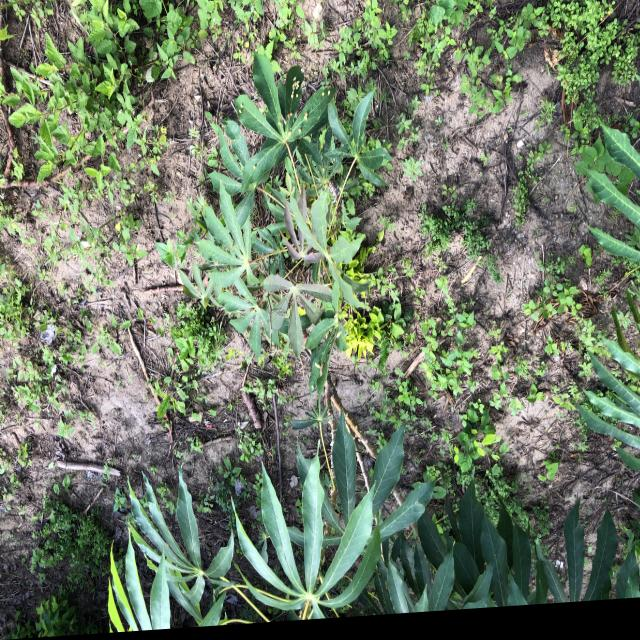Maleza: (11, 0, 178, 207), (388, 0, 637, 124), (380, 235, 495, 426), (132, 307, 225, 408)
Mosca: (290, 70, 303, 99), (318, 86, 335, 99), (247, 159, 262, 172), (284, 110, 297, 123), (234, 102, 244, 118), (294, 127, 309, 137), (302, 109, 312, 123)
